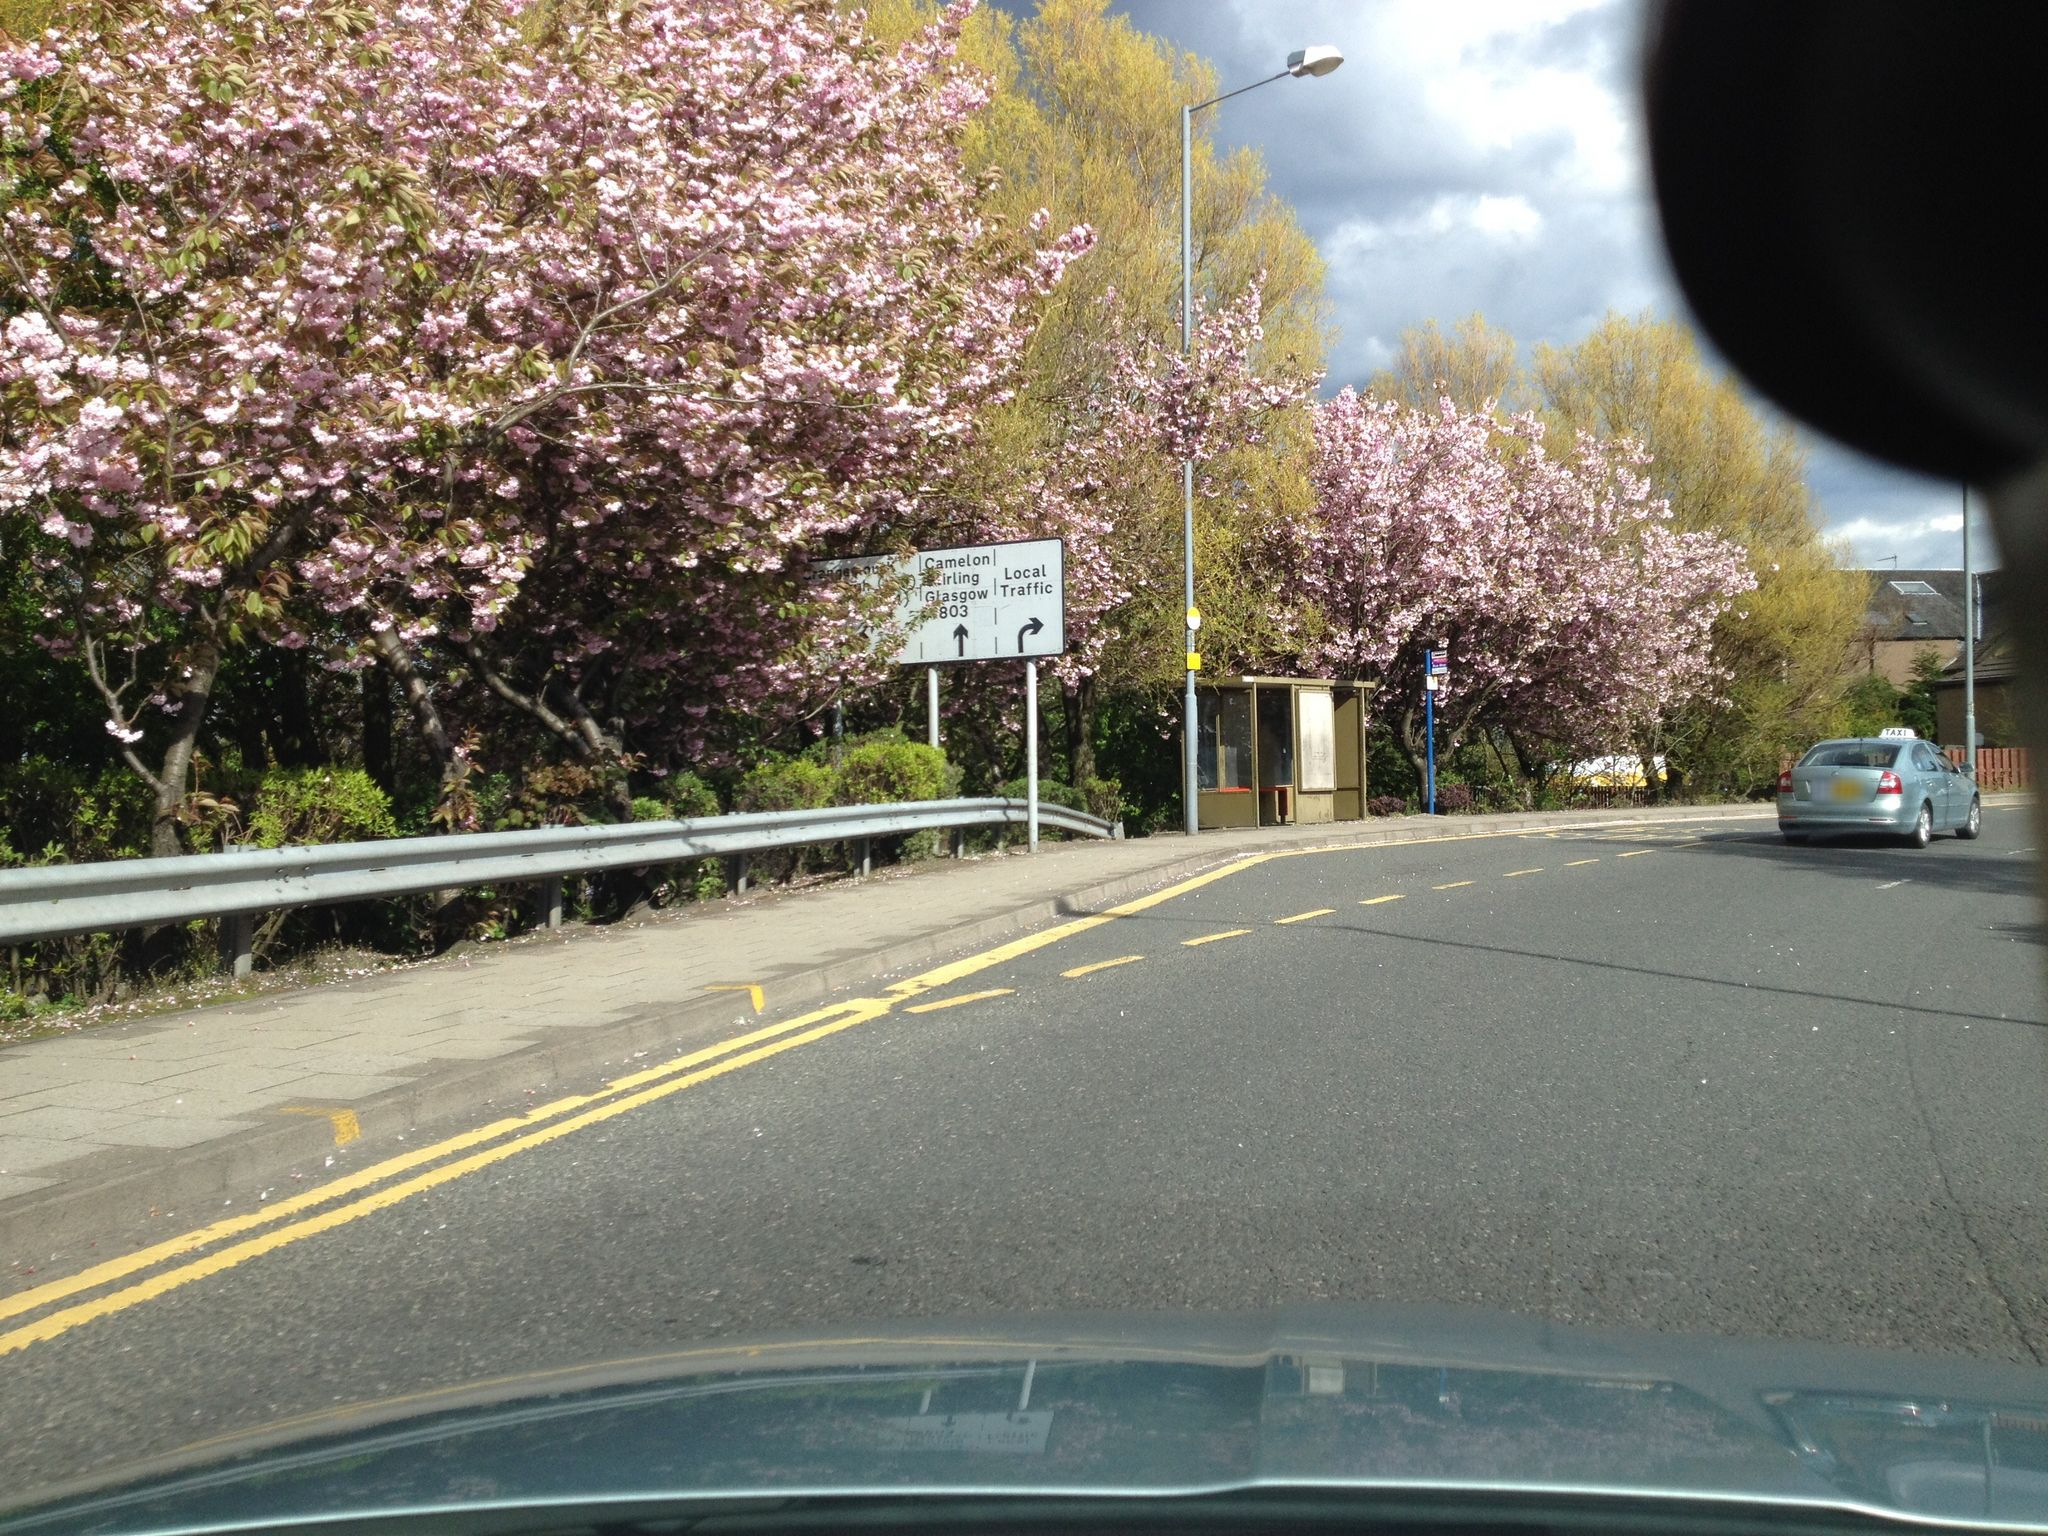car: (1775, 728, 1982, 845)
